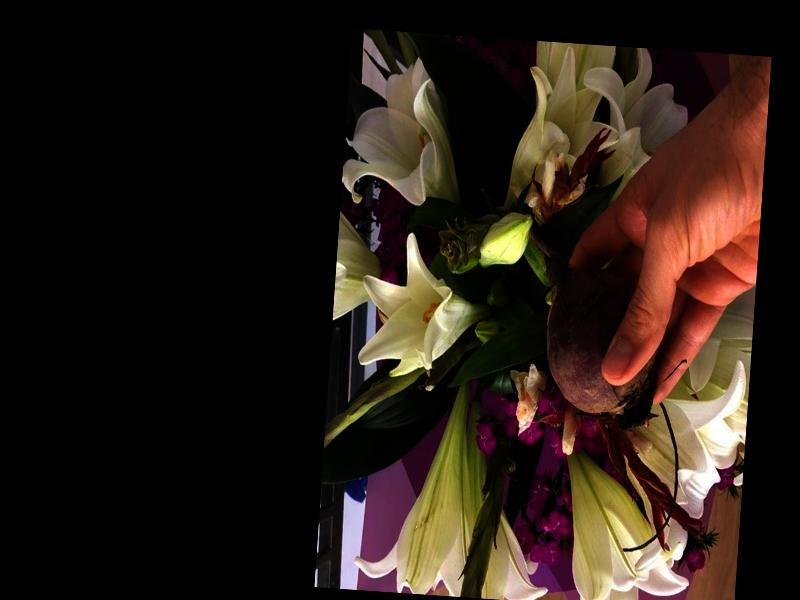Beet: (514, 223, 666, 431)
